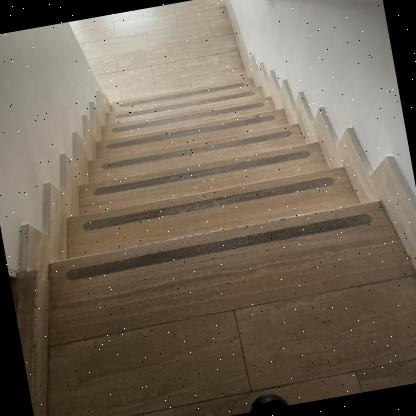stair: (14, 47, 383, 416)
